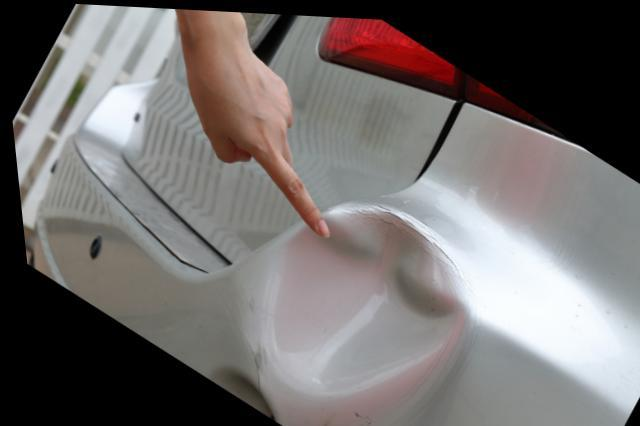dent: (250, 197, 471, 395)
